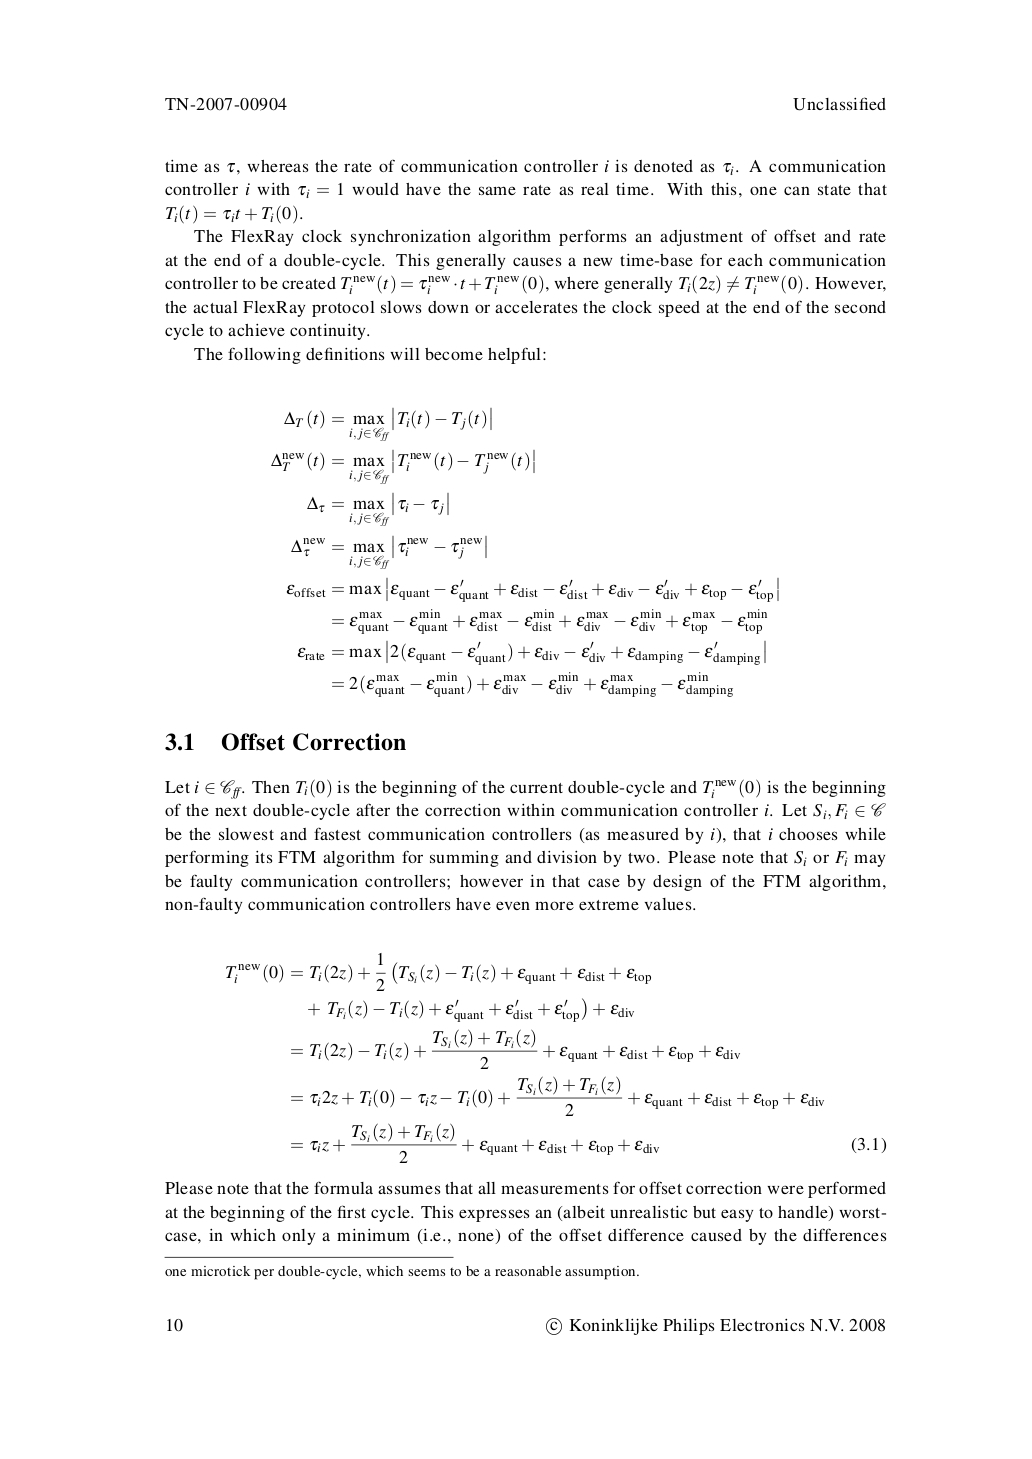formula: (292, 1122, 886, 1163), (292, 1075, 823, 1116), (292, 1028, 739, 1069), (226, 952, 651, 991), (286, 576, 778, 602), (297, 639, 765, 665), (332, 608, 767, 634), (332, 671, 732, 697), (271, 448, 534, 484), (308, 997, 633, 1023), (284, 406, 491, 441), (292, 534, 486, 569), (307, 491, 448, 526)
